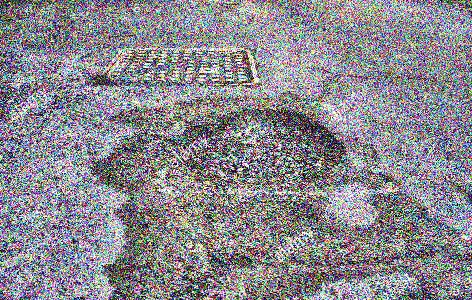pothole: (158, 106, 347, 188)
